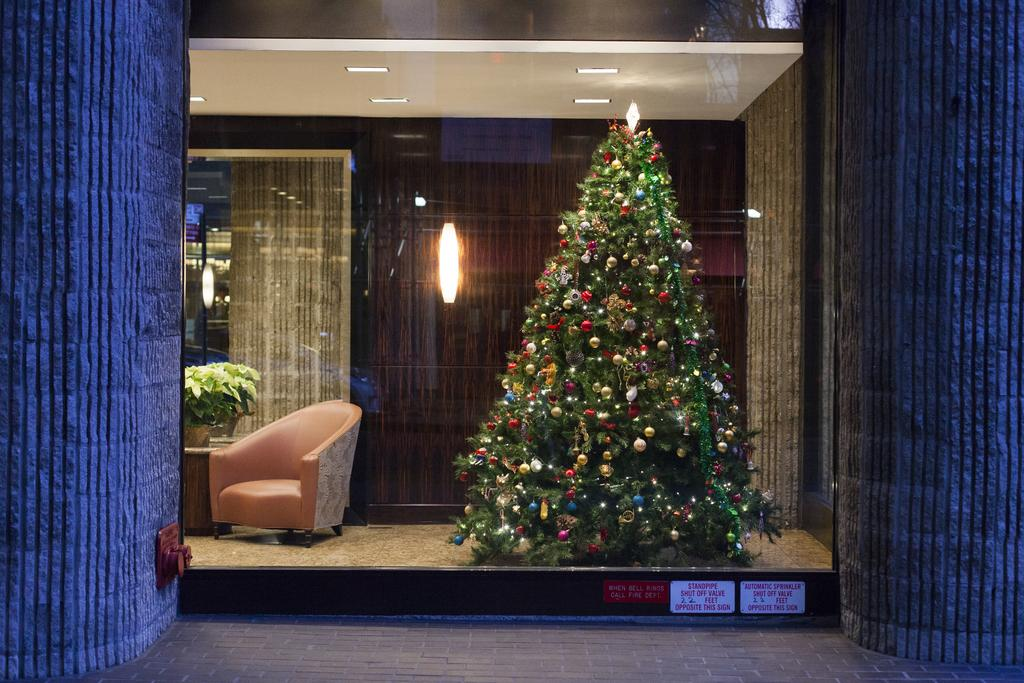Chair: (187, 401, 371, 554)
